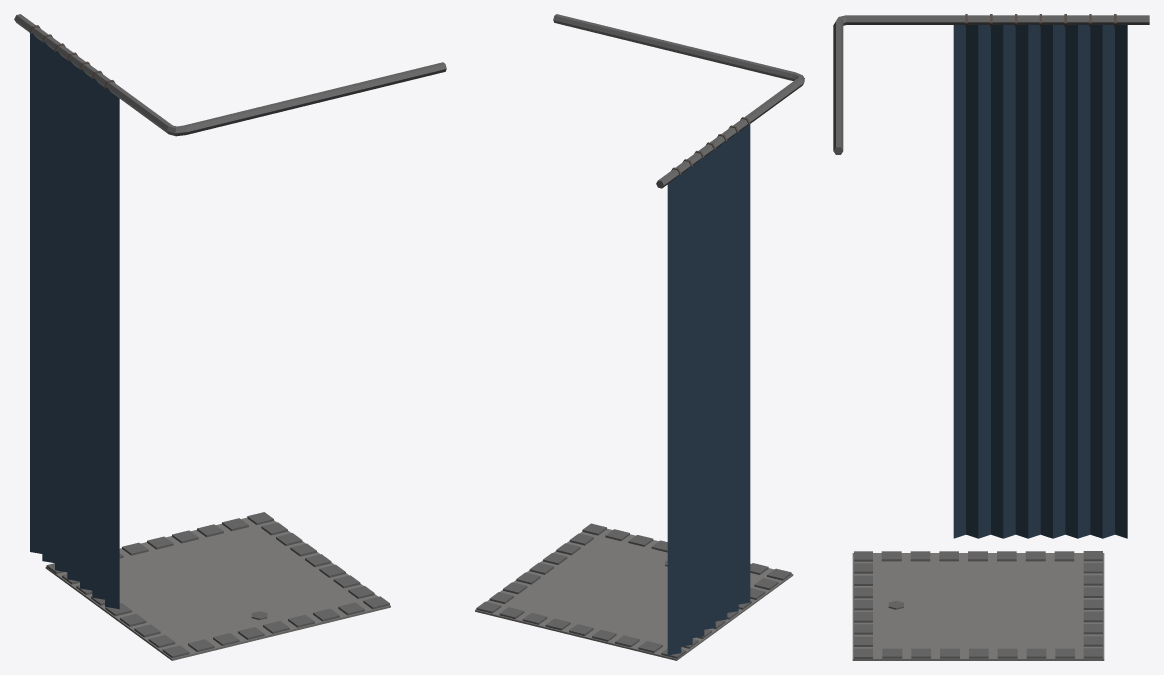
File: Bathroom_Shower1.glb
3 views of the same model, side by side, from view 1: azimuth 30°, elevation 25°; view 2: azimuth 150°, elevation 25°; view 3: azimuth 270°, elevation 25° (orthographic). The views are drawn at different scales.
Parts seen in each view (by area): view 1: Bathroom_Shower1; view 2: Bathroom_Shower1; view 3: Bathroom_Shower1.
Part boxes in pixels (x1=…): Bathroom_Shower1: x1=14, y1=14, x2=446, y2=660; Bathroom_Shower1: x1=475, y1=14, x2=804, y2=660; Bathroom_Shower1: x1=833, y1=14, x2=1149, y2=660.
Size of the model in its own units: 0.5688 by 1.06 by 0.5679.
